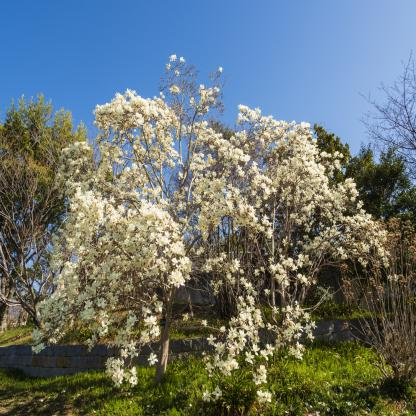Mokuren: (28, 52, 391, 406)
